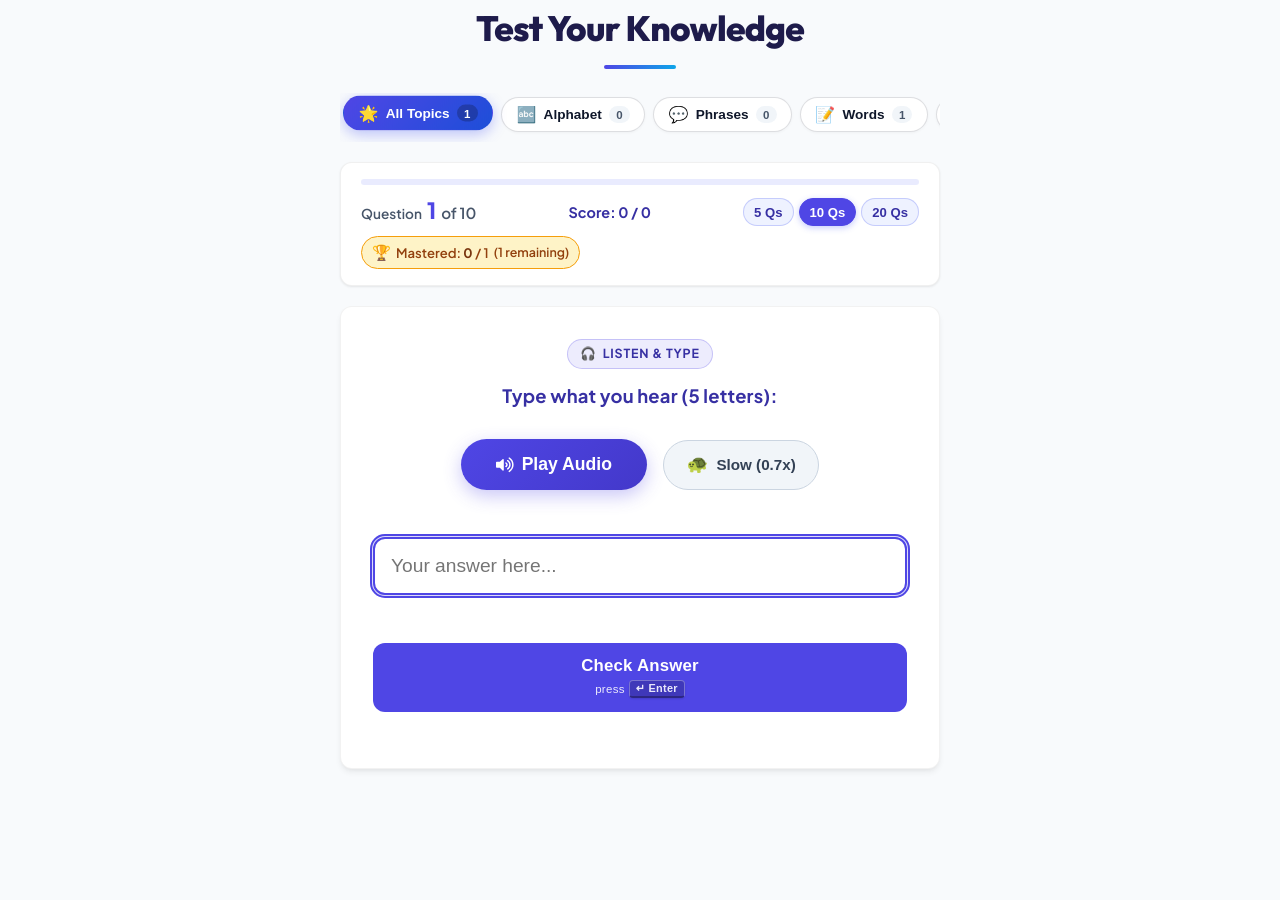
it: Quiz Deep Interactions - Dialogues, Audio Speed Controls, Enter Key, Mastery & Missed Recap › auto-plays audio once for listening questions and supports "I was right" override persistence
This screenshot has width=1280, height=900.
In the field with placeholder "Your answer here...": {"x": 640, "y": 566} [373,537,907,595], type "wrong guess"
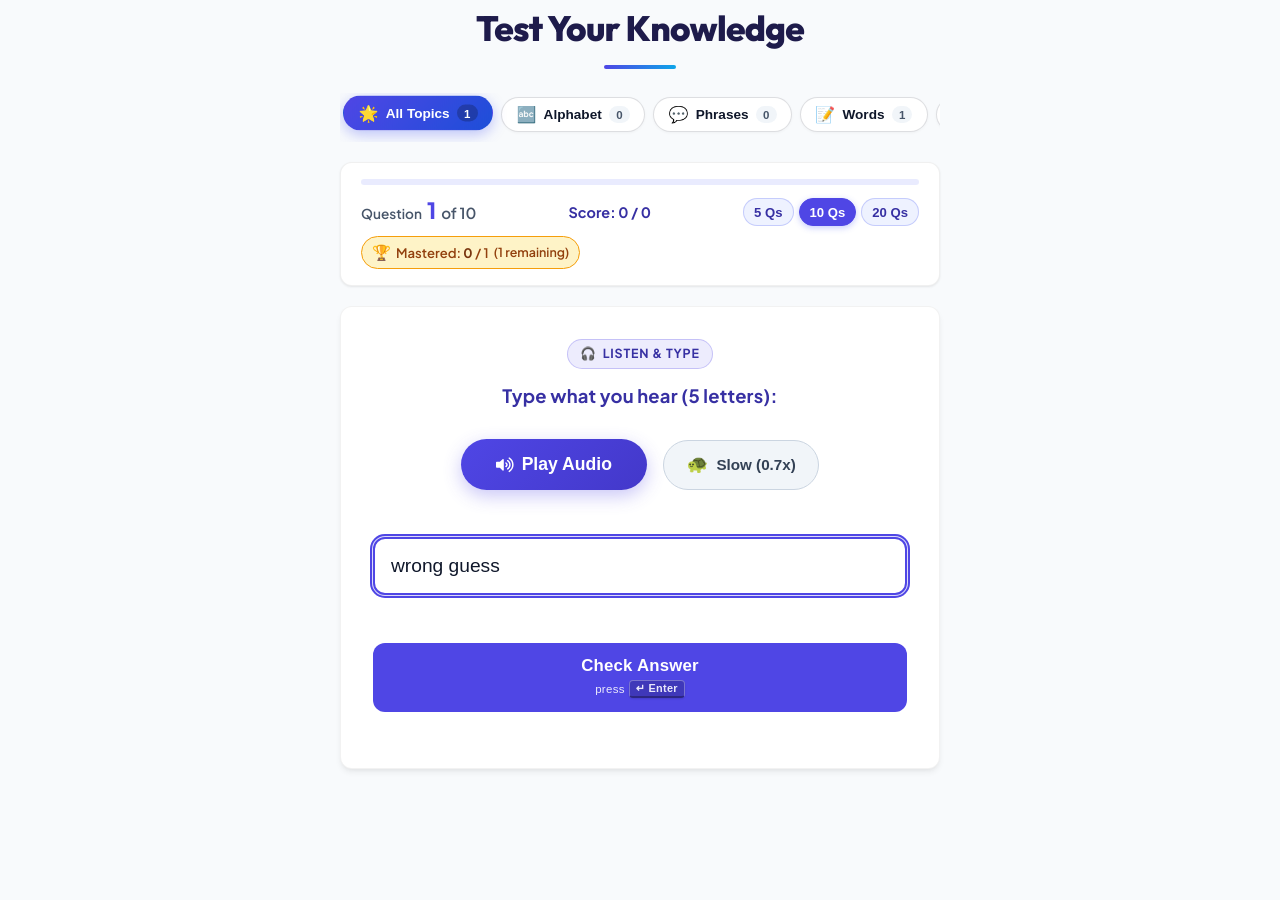
Click the button "Check Answer press ↵ Enter": {"x": 640, "y": 677} [373,643,907,712]
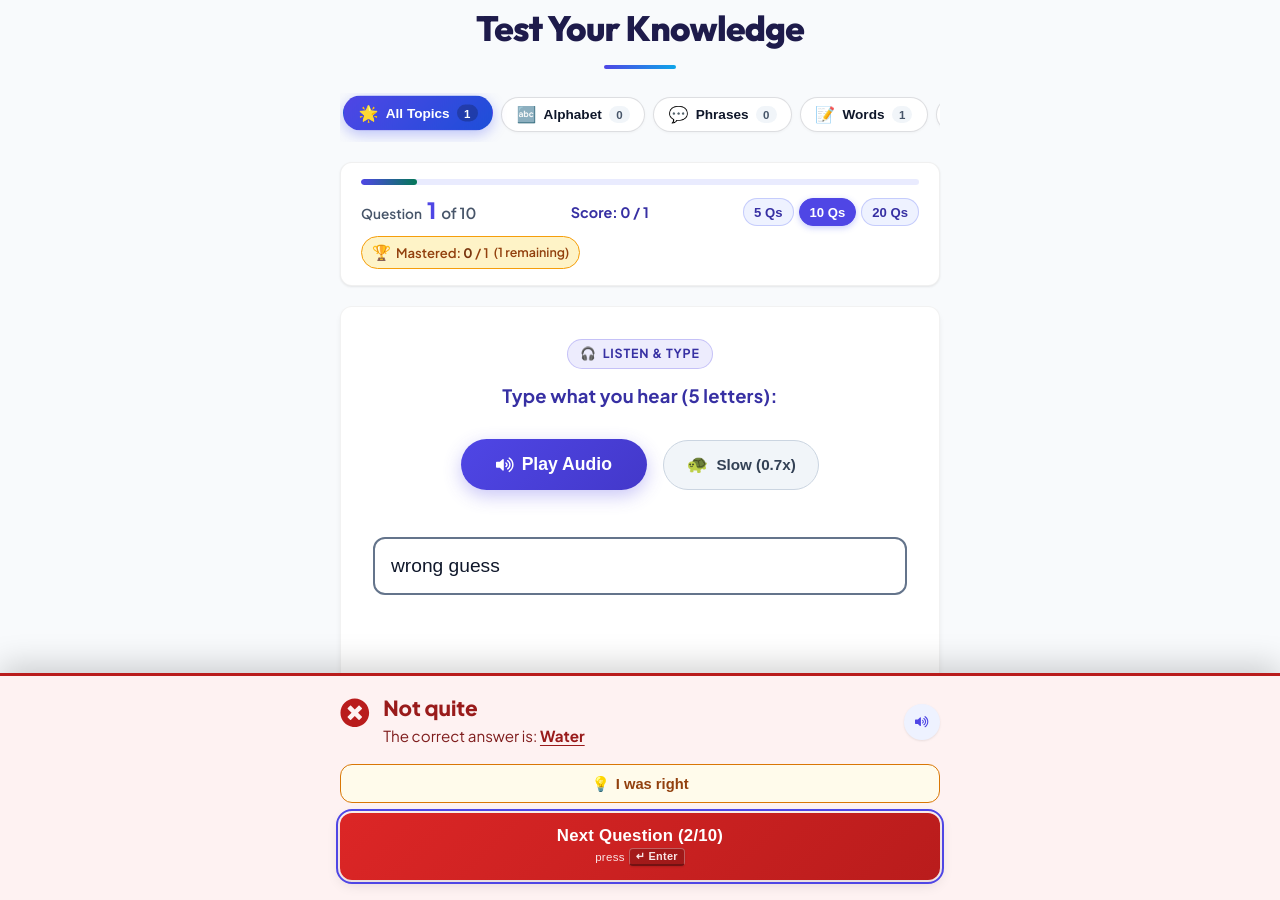
Expected: the text "Not quite" is shown, [383,694,478,720]
Click the button "💡 I was right": {"x": 640, "y": 784} [340,764,940,803]
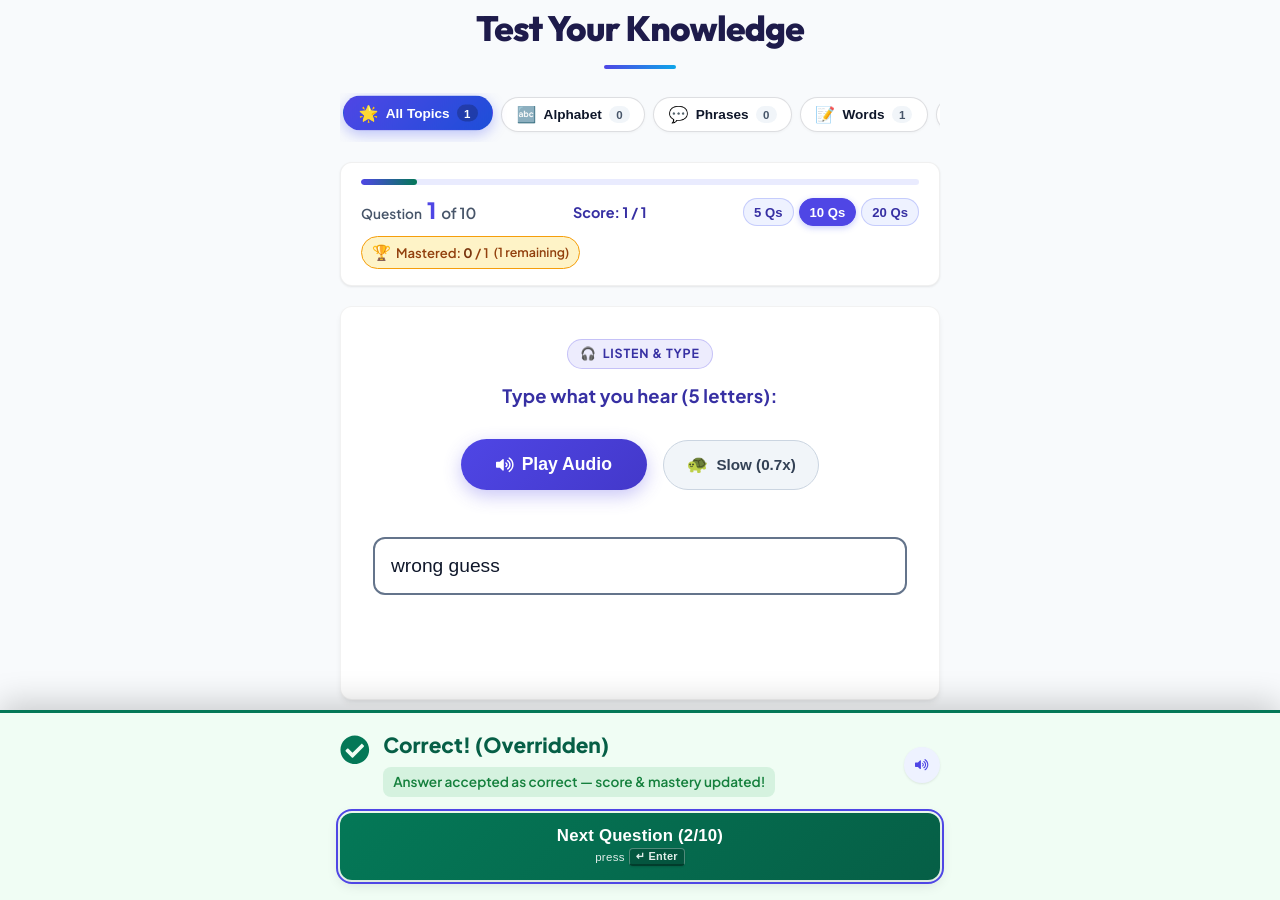
Expected: the text "Correct! (Overridden)" is shown, [383,731,609,758]
